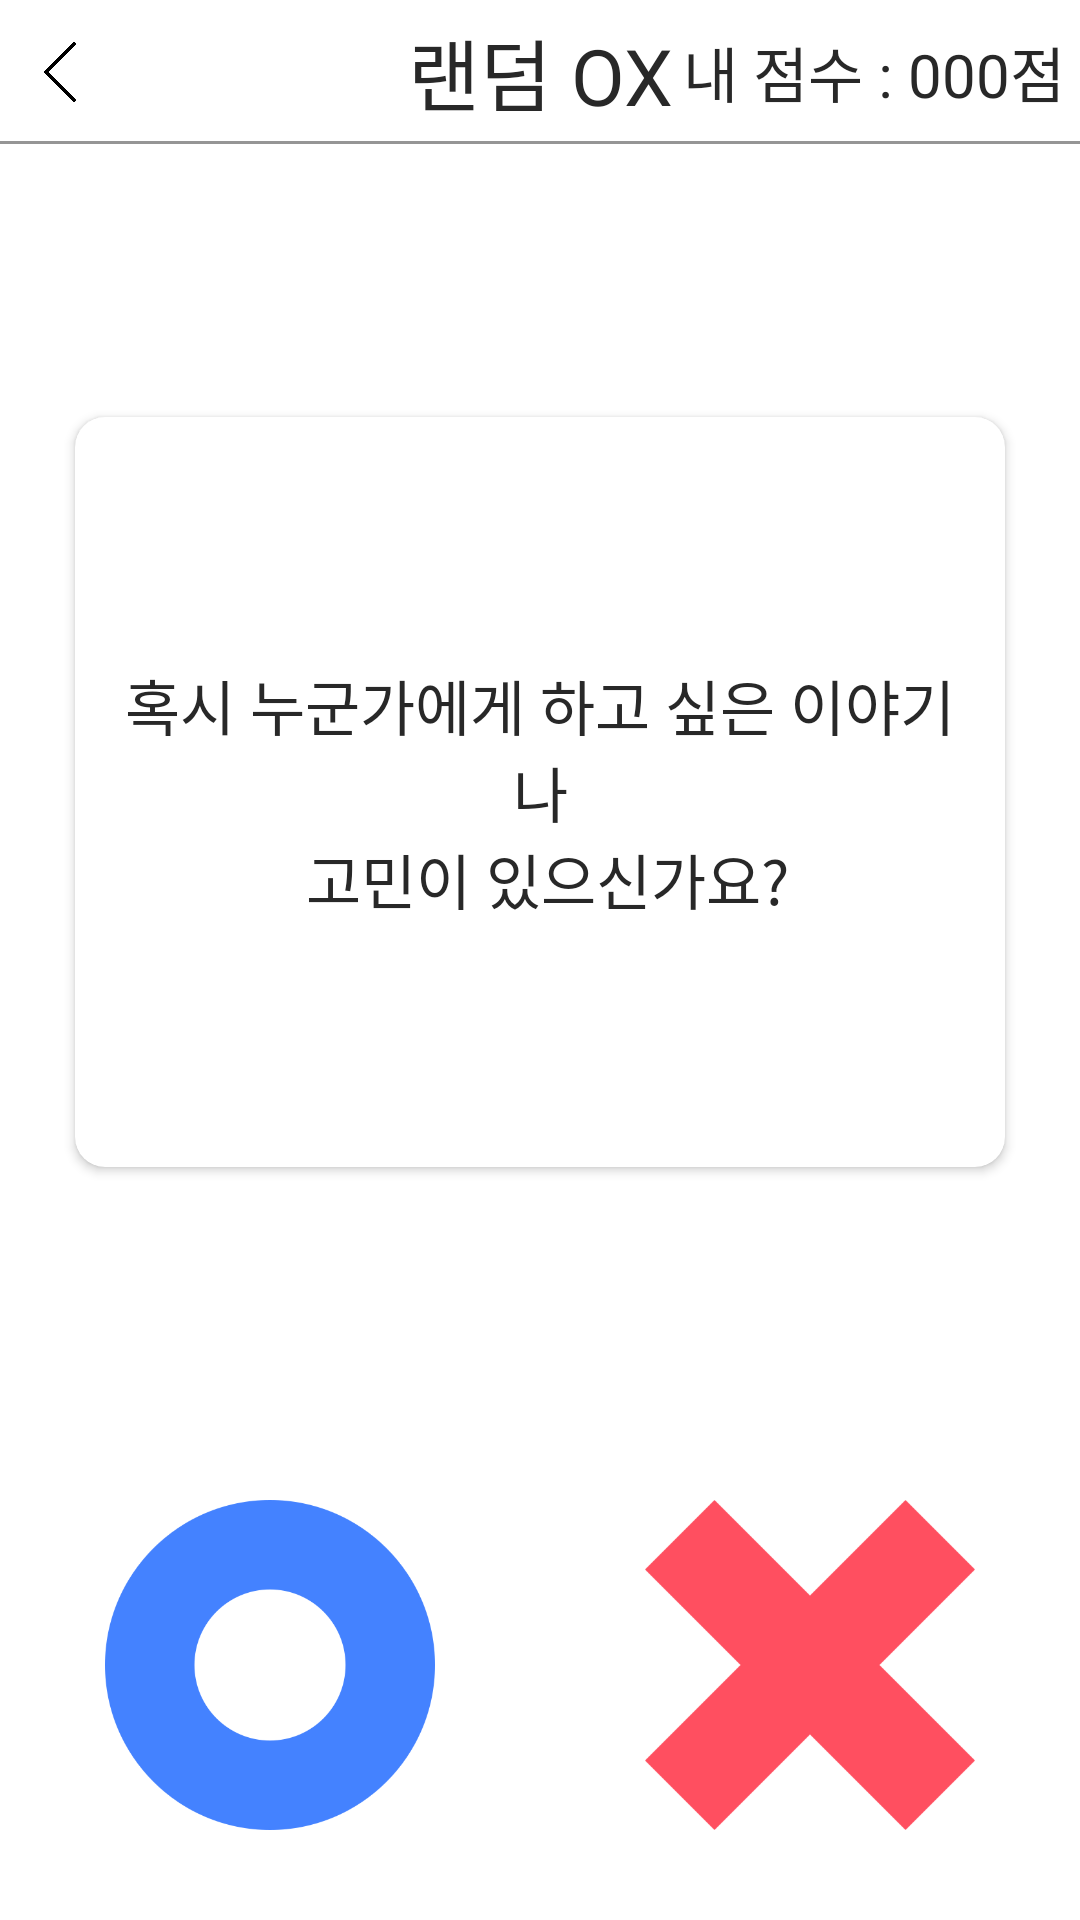

Screen size 1080 x 1920. Icon name, then its center in pixels as (x=x, y=y):
circle: (x=270, y=1665)
cross: (x=810, y=1665)
